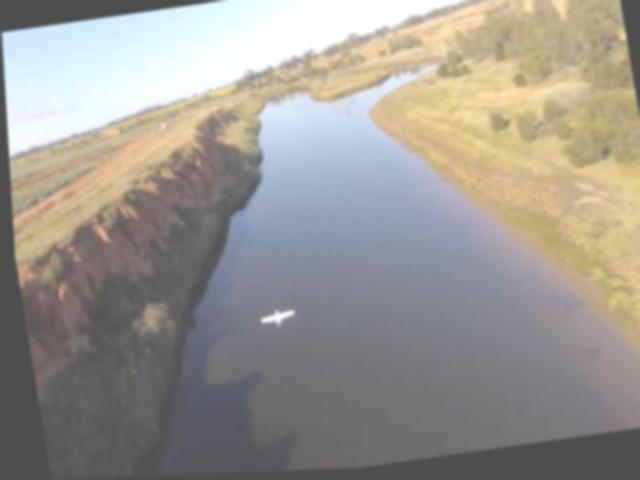uav: (254, 307, 294, 333)
